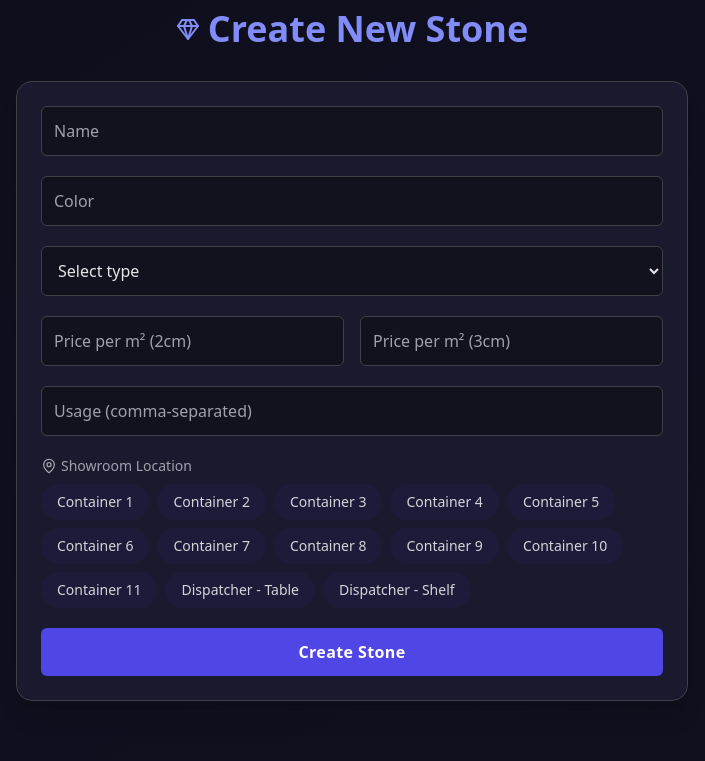
Test: AddStonePage › shows "Failed to create stone" when request fails
The image size is (705, 761).
Type "Test Stone" into the field with placeholder "Name" at (352, 131), box left=41, top=106, right=663, bottom=156
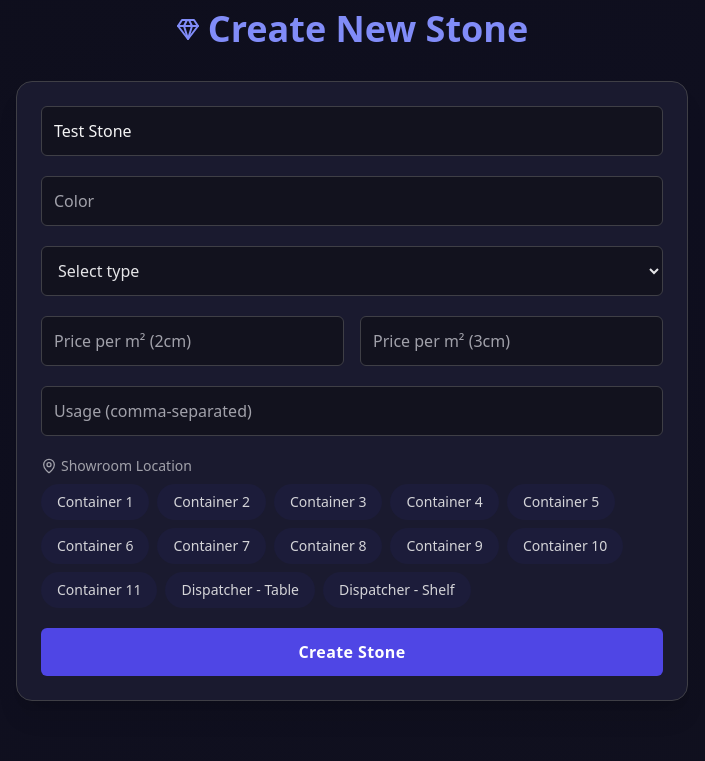
Type "Blue" into the field with placeholder "Color" at (352, 201), box left=41, top=176, right=663, bottom=226
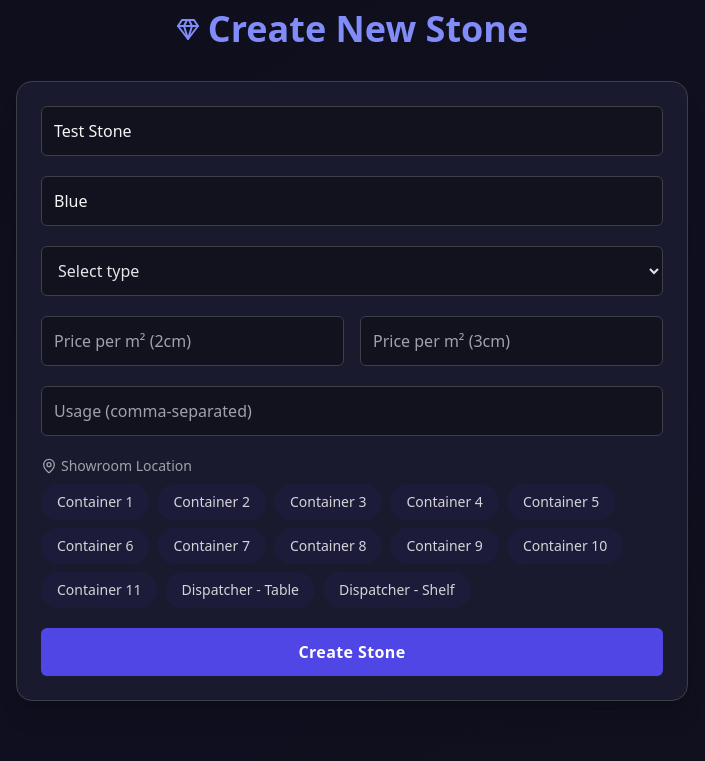
Type "kitchen" into the field with placeholder "Usage (comma-separated)" at (352, 411), box left=41, top=386, right=663, bottom=436
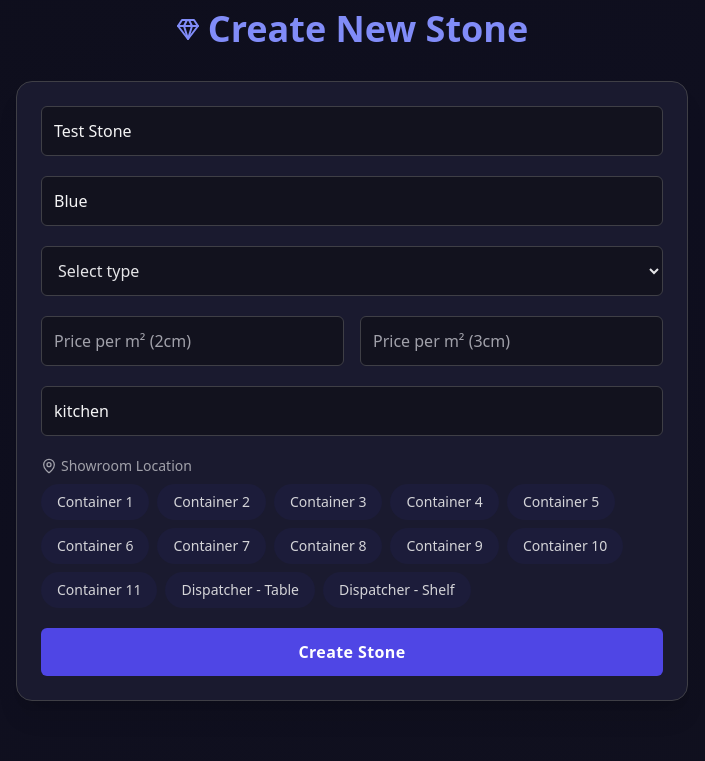
Select "granite" in the dropdown showing "Select type" at (352, 271), box left=41, top=246, right=663, bottom=296
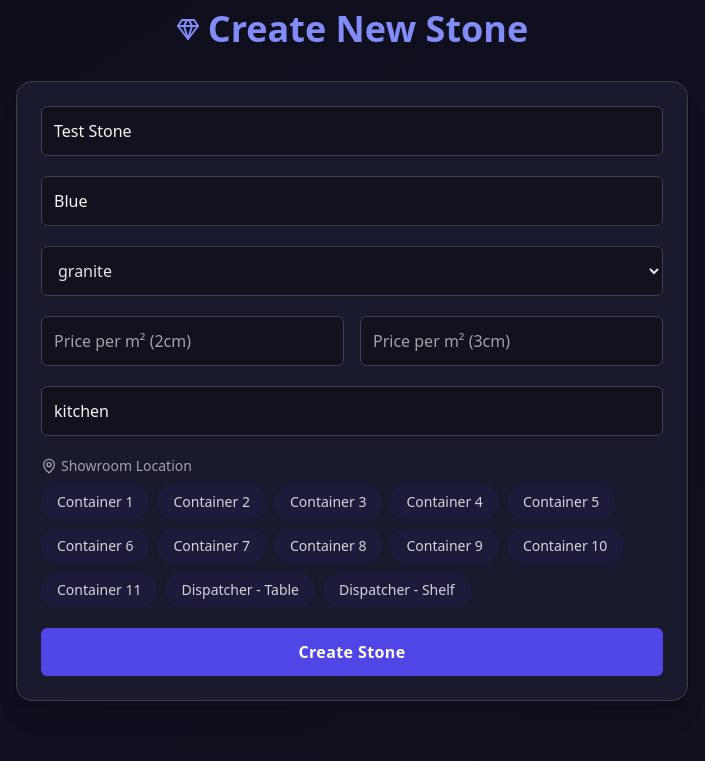
Click the button "Create Stone" at (352, 652), box left=41, top=628, right=663, bottom=676
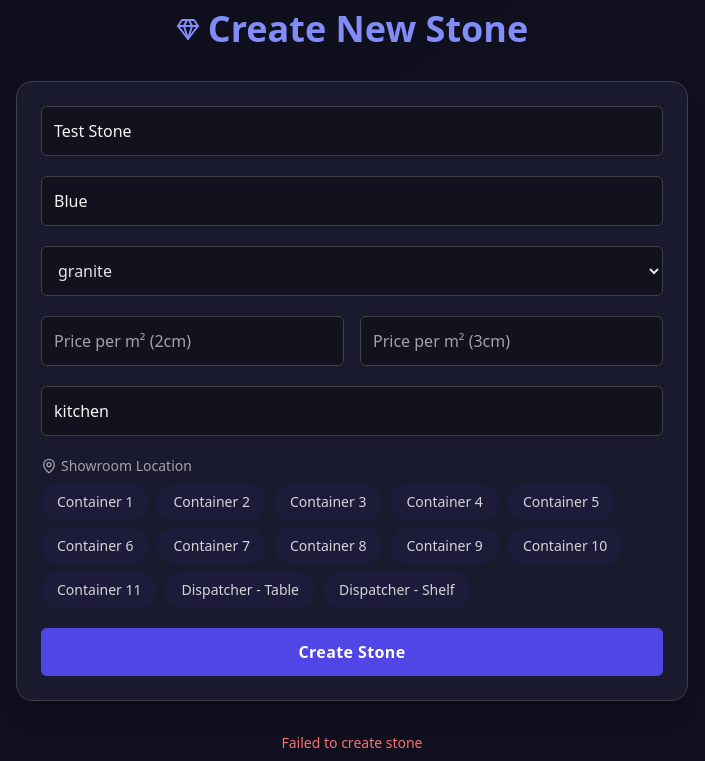
Expected: the text "Failed to create stone" is shown, left=282, top=733, right=422, bottom=752
